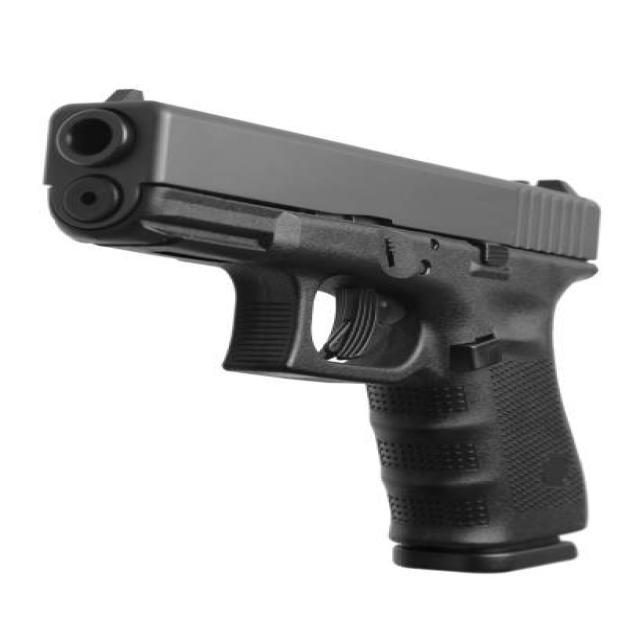pistol: (35, 85, 616, 582)
